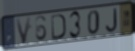0: (86, 10, 100, 37)
3: (68, 10, 84, 39)
6: (35, 14, 48, 42)
D: (50, 13, 67, 42)
J: (104, 7, 118, 34)
V: (14, 15, 32, 46)
